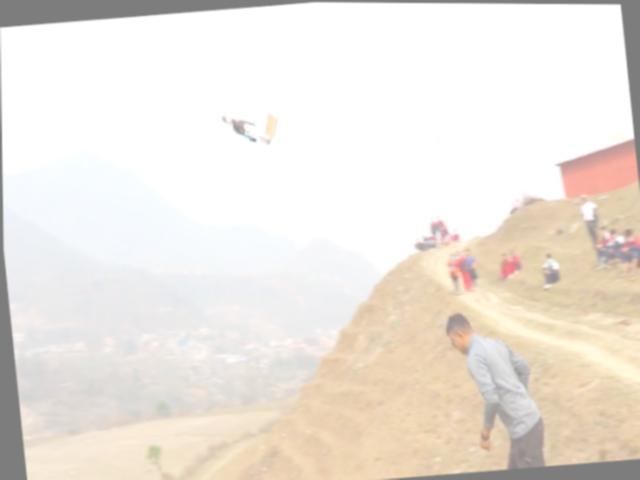plane: (201, 96, 282, 150)
